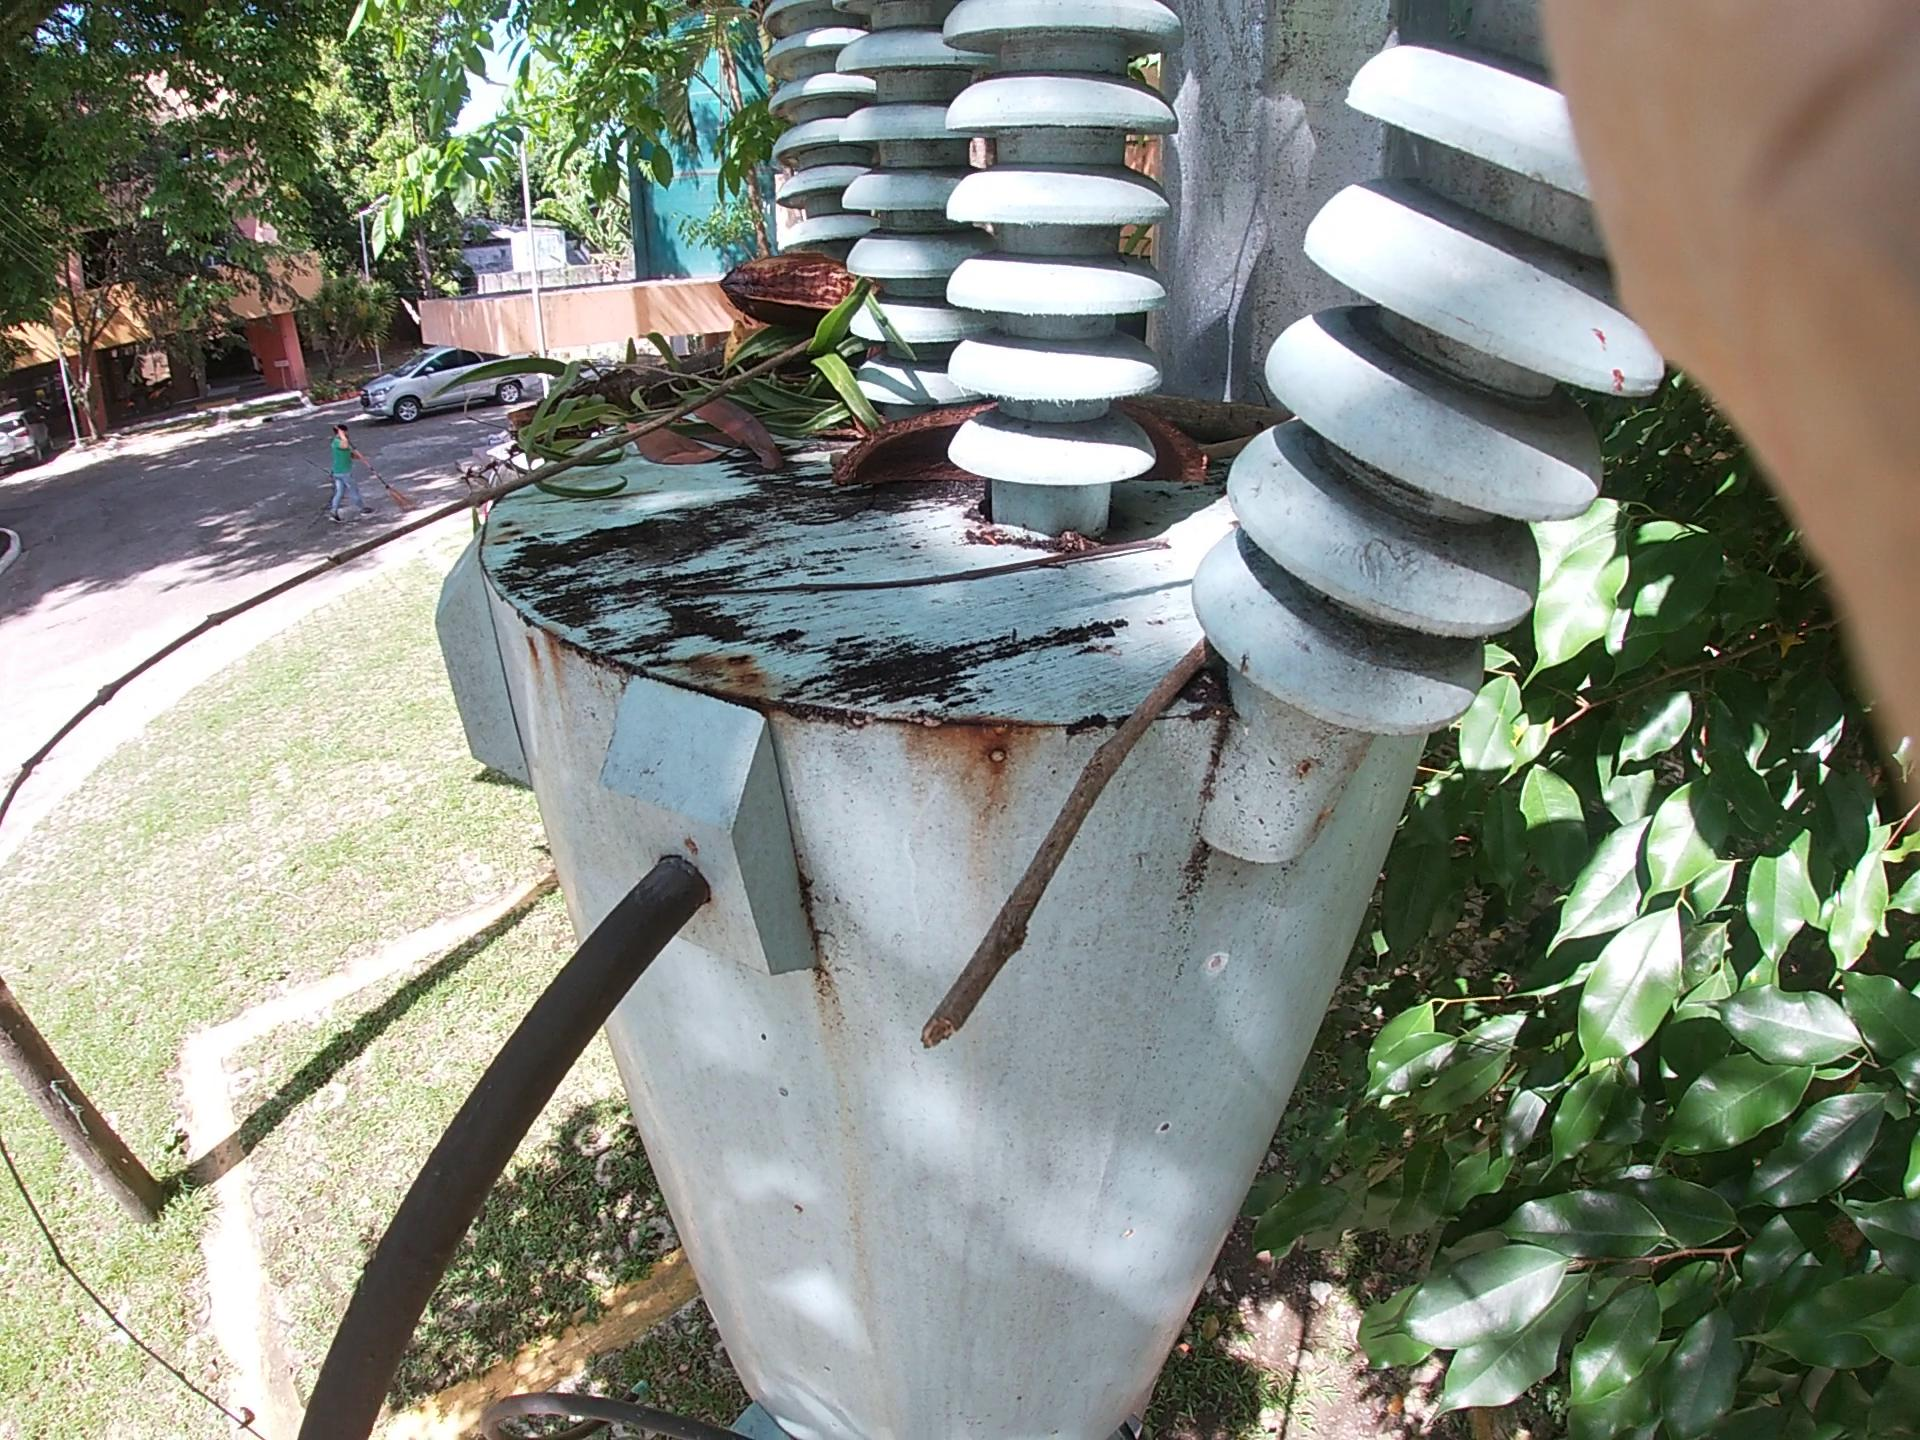branch with leaves: (187, 166, 1002, 611)
leaf: (562, 374, 836, 519)
mahogany fruit: (801, 390, 1271, 537), (703, 163, 939, 371)
tree branch: (965, 492, 1450, 1082), (1129, 251, 1442, 510), (671, 545, 1256, 584)
